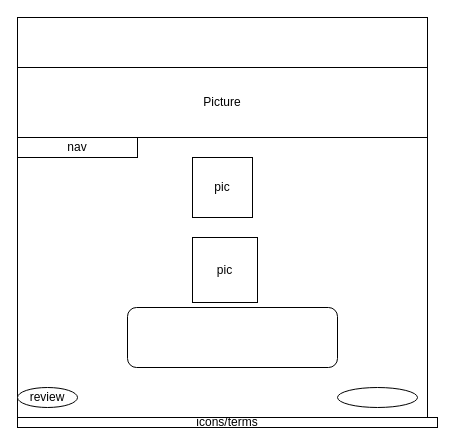
Some shapes in this 455 by 447 pixel diagram are drawn without their labels. Here are the shapes that lost their labels. From the top down, the centre of each, then its label:
At pixel 222 42: "Promo Bar".
At pixel 232 337: "Video".
At pixel 377 397: "top".
